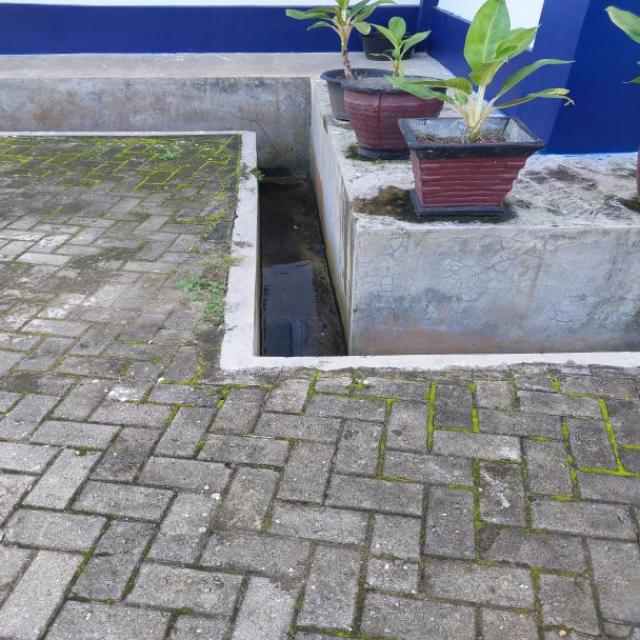plant ahead at: (398, 4, 538, 227), (342, 0, 428, 140)
